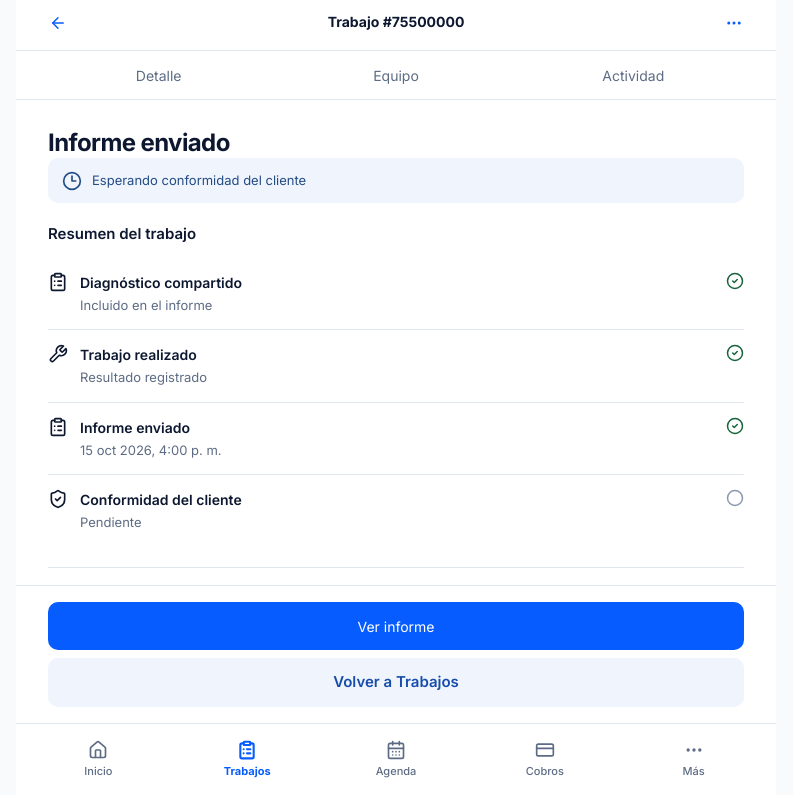
Test case: approved compact professional job workspace › does not offer a professional customer-confirmation shortcut after report submission
The image size is (793, 795).
Expected: the heading "Informe enviado" is shown, [48, 128, 230, 157]
Expected: the text "Esperando conformidad del cliente" is shown, [48, 158, 744, 203]
Click the button "Ver informe" at (396, 626), box [48, 602, 744, 650]
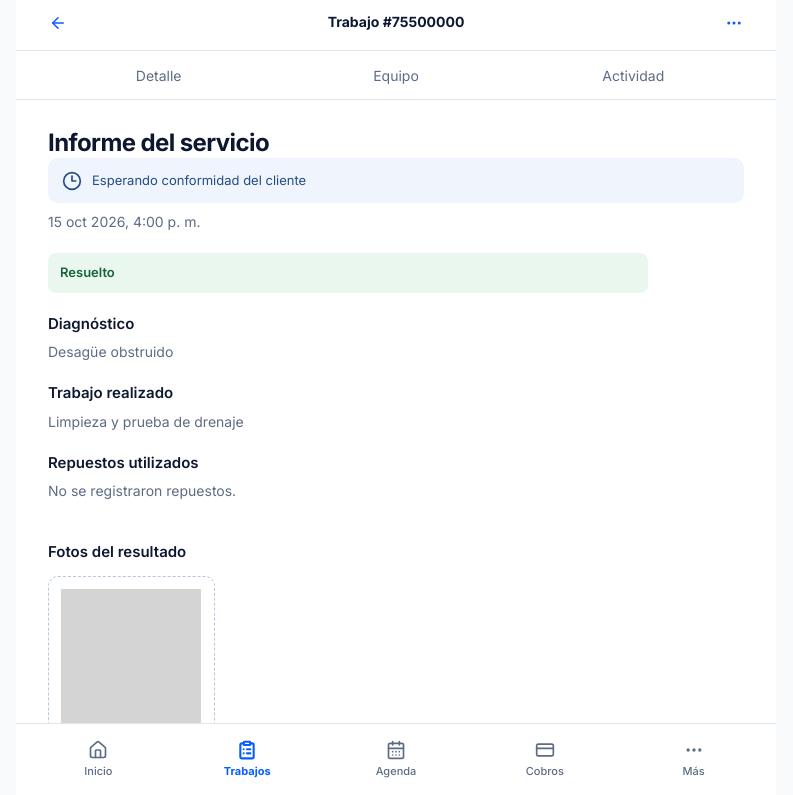
Expected: the heading "Informe del servicio" is shown, [48, 128, 269, 157]
Expected: the text "Limpieza y prueba de drenaje" is shown, [48, 413, 244, 430]
